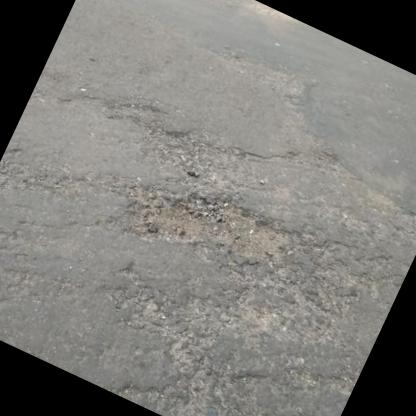pothole: (117, 160, 303, 303), (152, 116, 246, 193)
